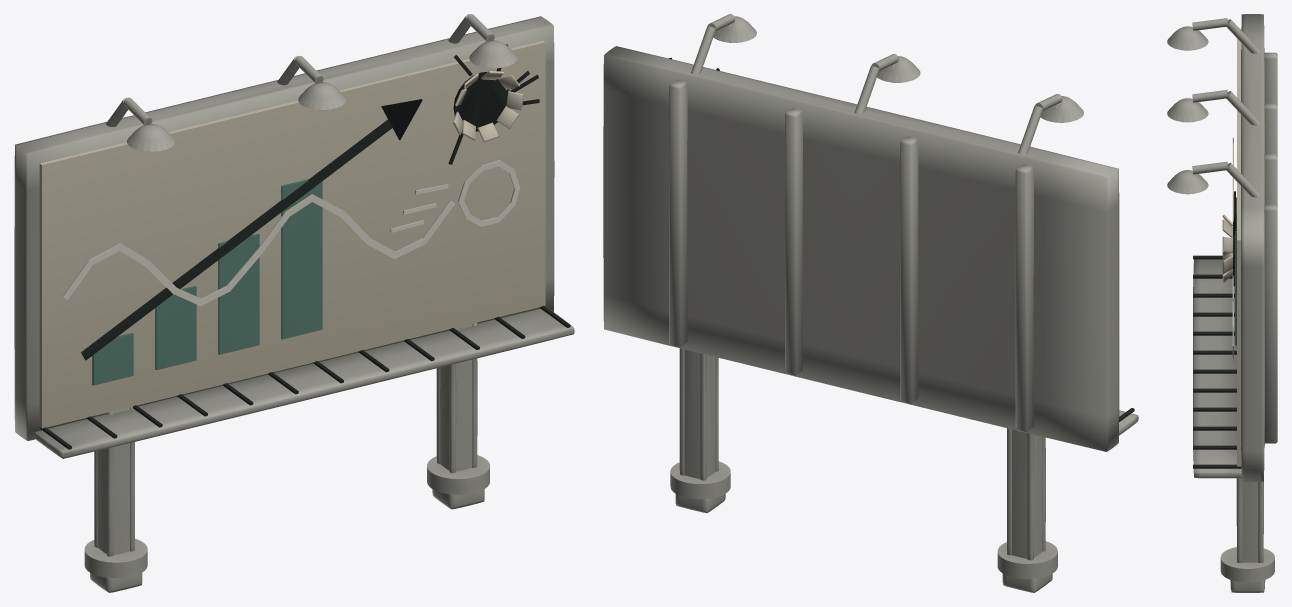
The model's file is foreman_billboard_b.glb.
The picture shows the model from 3 angles, left to right: view 1: azimuth 30°, elevation 25°; view 2: azimuth 150°, elevation 25°; view 3: azimuth 270°, elevation 25°; orthographic projection. The views are drawn at different scales.
Visible parts, largest first — view 1: Surface; view 2: Surface; view 3: Surface.
Boxes of the visible parts, bbox=[...] form: Surface: bbox=[14, 14, 574, 592]; Surface: bbox=[603, 14, 1138, 592]; Surface: bbox=[1167, 14, 1277, 592].
Bounding box in the file's own units: 10.5 × 9.38 × 2.21.
